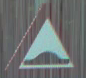Speed Breaker ahead: (7, 3, 78, 70)
